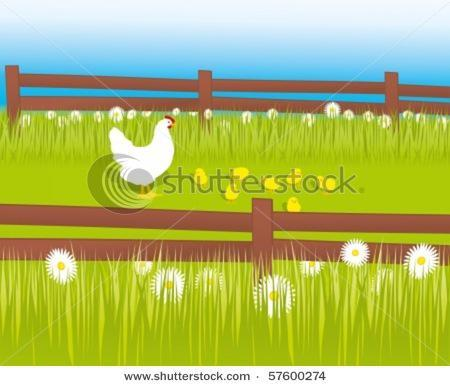bird: (100, 115, 180, 188), (219, 179, 243, 203), (315, 173, 337, 194), (263, 170, 282, 191), (284, 164, 303, 185), (192, 165, 209, 188), (228, 163, 251, 178), (283, 194, 301, 212)
